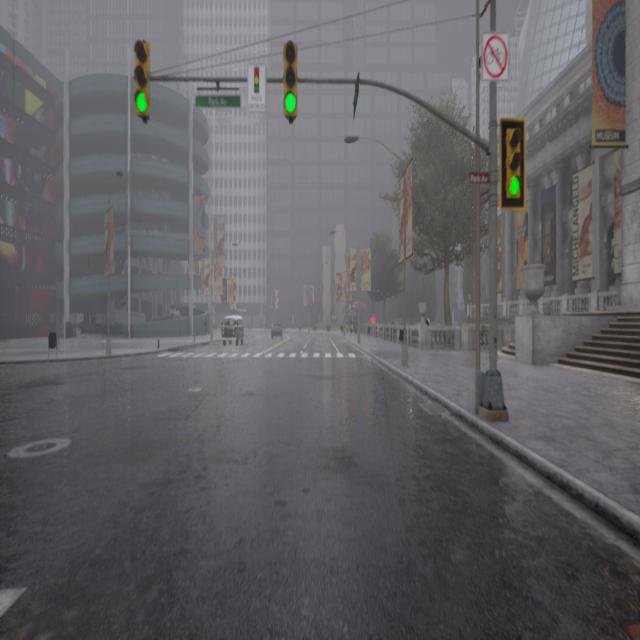11: (482, 35, 508, 79)
bien_chi_dan: (134, 89, 148, 111), (508, 175, 520, 198), (284, 93, 297, 114)
bien_nguy_hiem: (495, 121, 529, 210), (130, 37, 160, 123), (280, 36, 304, 137)
